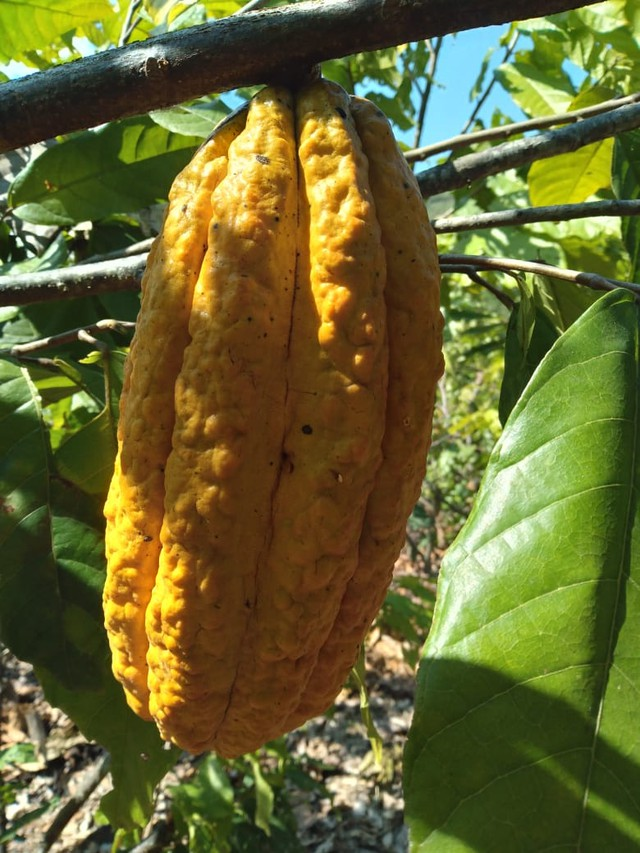Health: (96, 62, 456, 760)
